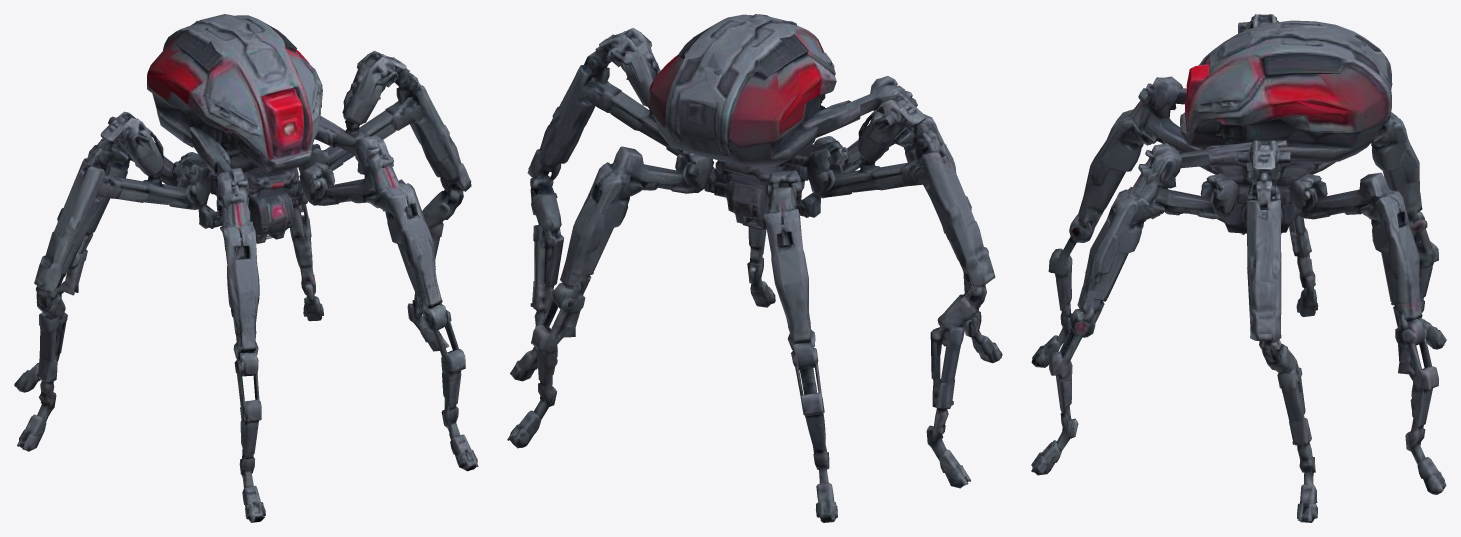
The model's file is t94_spider_lod0m.glb.
3 views of the same model, side by side, from view 1: azimuth 30°, elevation 25°; view 2: azimuth 150°, elevation 25°; view 3: azimuth 270°, elevation 25° (orthographic). The views are drawn at different scales.
Bounding box in the file's own units: 4.8 × 4.02 × 3.89.
1 material, 1 textured.
